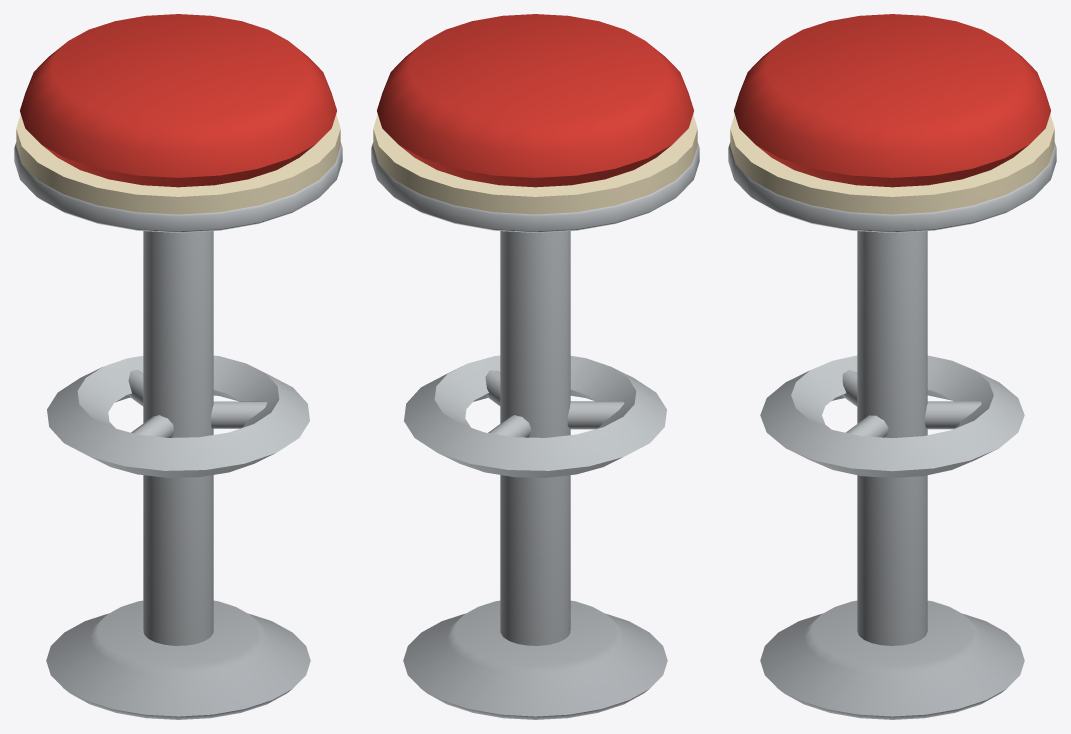
File: SM_BarStool_Diner_01.glb
3 views of the same model, side by side, from view 1: azimuth 30°, elevation 25°; view 2: azimuth 150°, elevation 25°; view 3: azimuth 270°, elevation 25° (orthographic).
Parts seen in each view (by area): view 1: SM_BarStool_Diner_01; view 2: SM_BarStool_Diner_01; view 3: SM_BarStool_Diner_01.
Boxes of the visible parts, x1,y1,x2,y2 form: SM_BarStool_Diner_01: (14,14,342,719); SM_BarStool_Diner_01: (371,14,699,719); SM_BarStool_Diner_01: (728,14,1056,719).
Size of the model in its own units: 0.372 by 0.75 by 0.372.
Materials: 1 (1 with a texture image).
